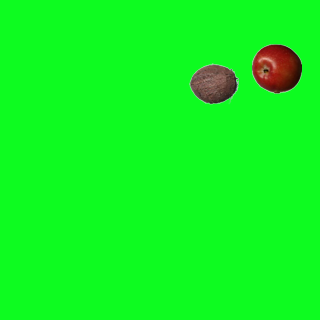Apple Braeburn: (251, 43, 301, 93)
Cocos: (188, 58, 238, 108)
